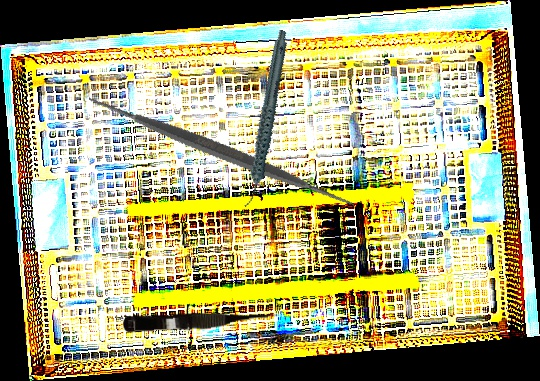Handpiece: (208, 29, 322, 209)
Micro Scissor: (122, 307, 281, 337)
Spatula Surgical: (83, 12, 360, 292)
